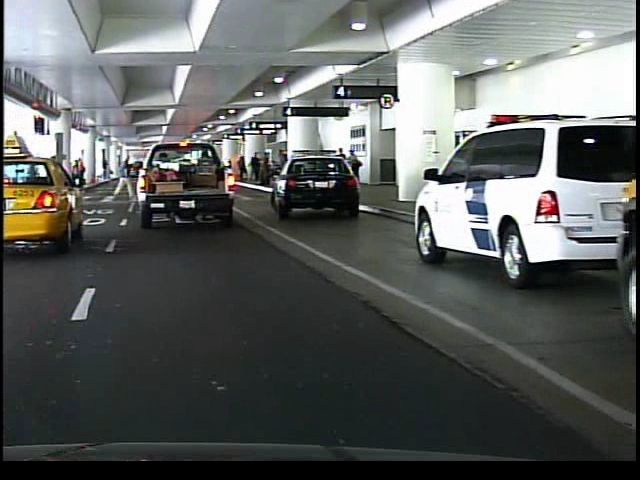person: (107, 152, 137, 203)
